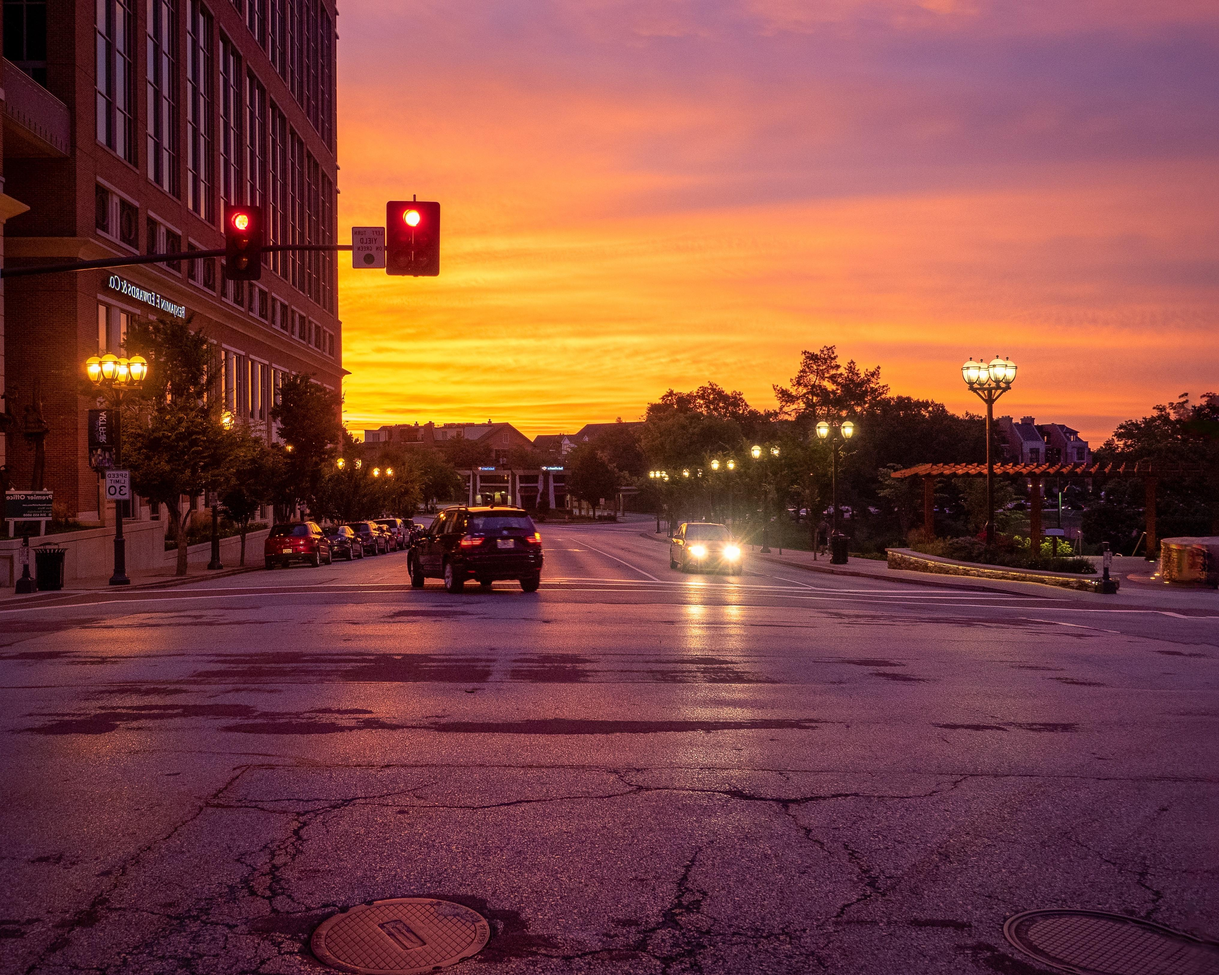red: (375, 186, 456, 279)
